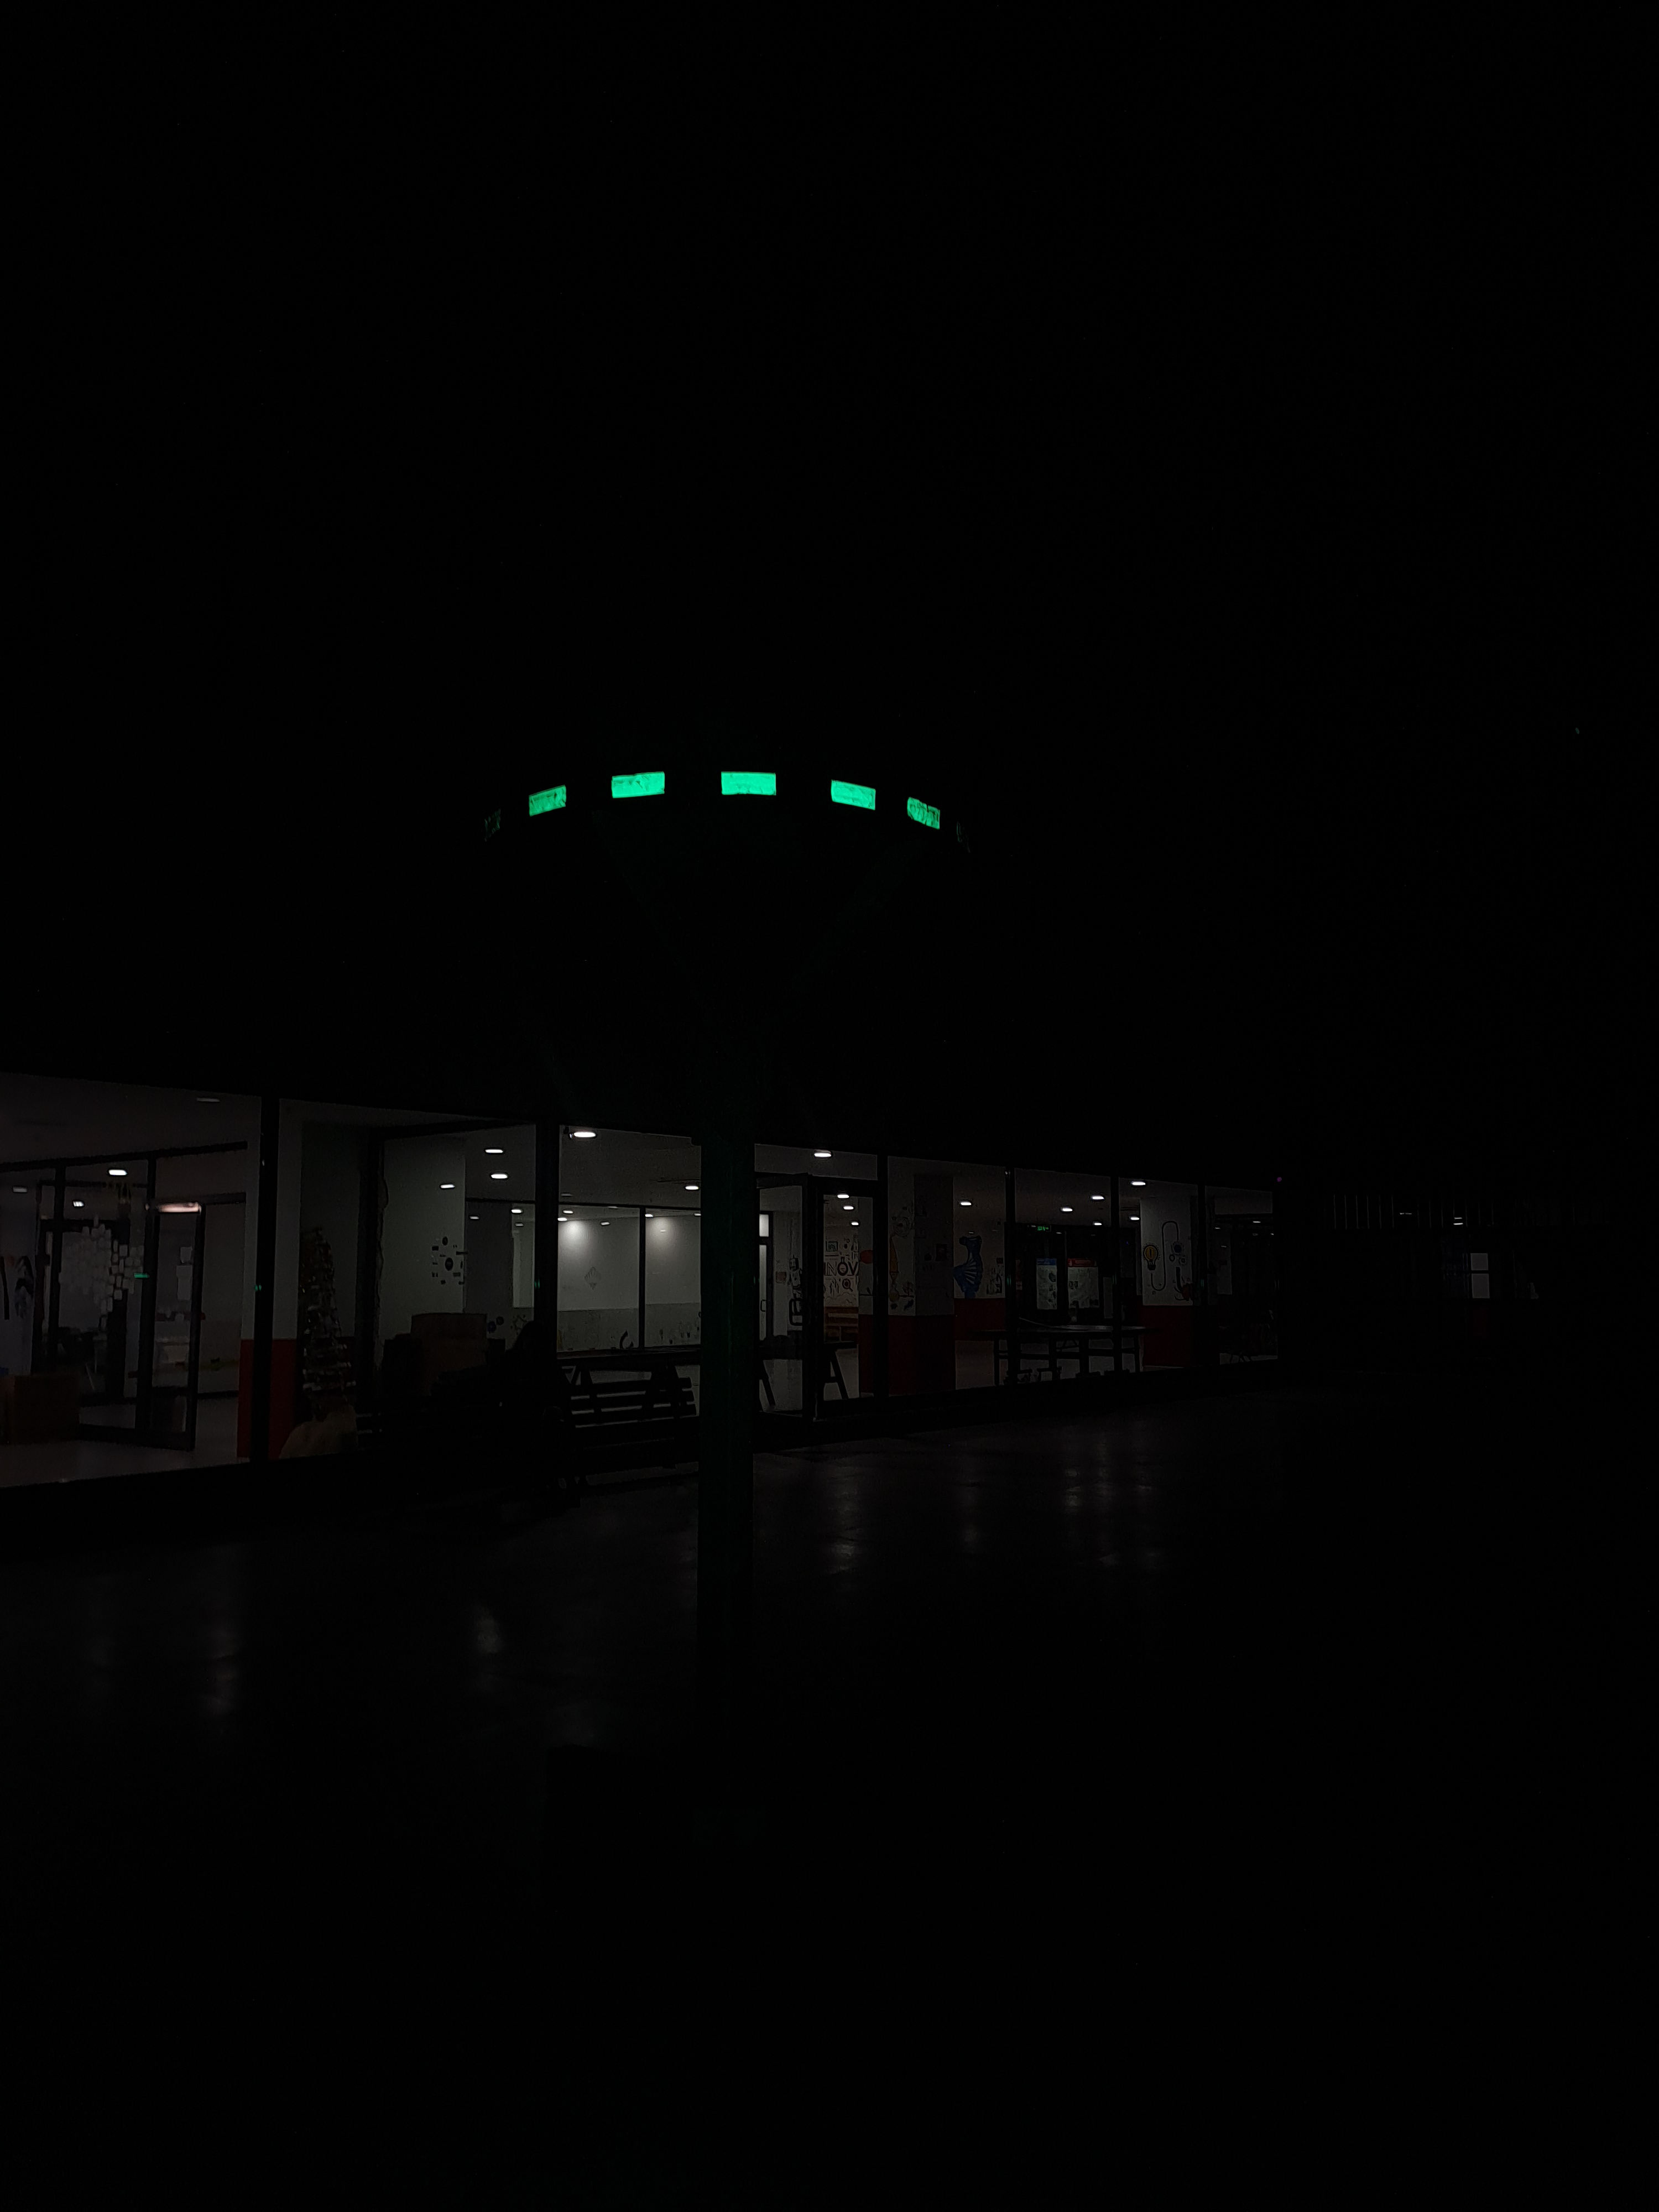hoop: (519, 770, 948, 841)
